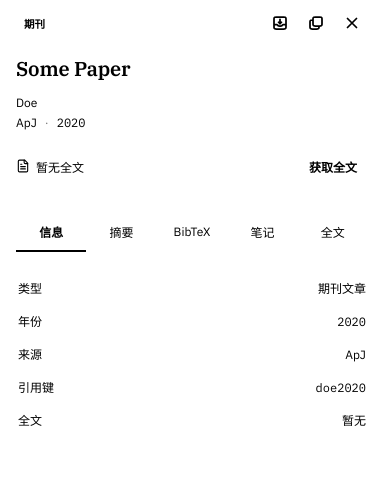
it: RefDetail upload tracking › hello replay surfaces an interrupted upload and leaves replacement available
Click the tab "全文": (333, 233) [298,214,368,252]
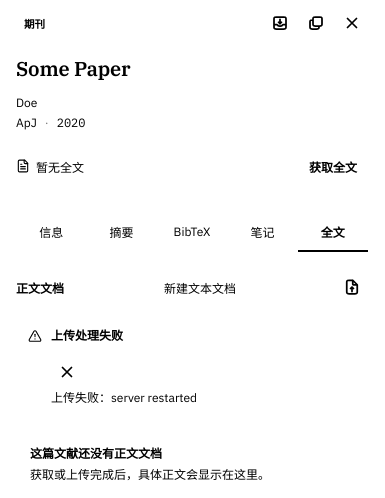
Now the text "上传失败：server restarted" is shown, box [51,388,197,407]
Now the button named "获取全文…" is enabled, box [336,271,368,303]
